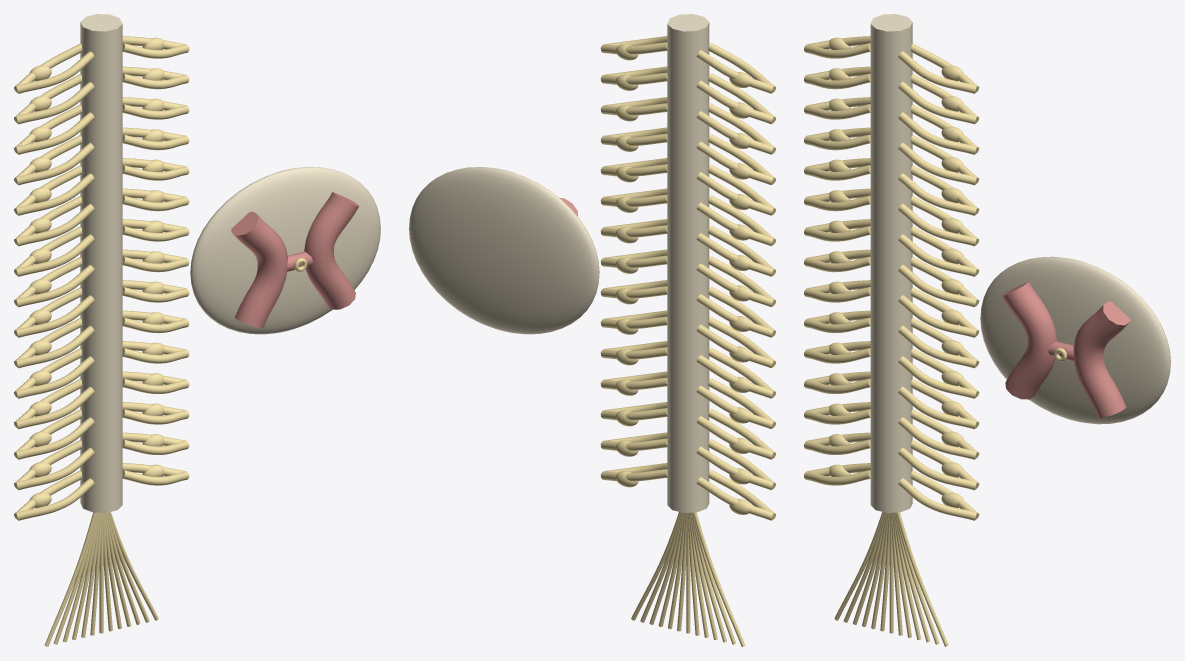
Rendered from spinal-cord.eda09d0e.glb.
The picture shows the model from 3 angles, left to right: view 1: azimuth 30°, elevation 25°; view 2: azimuth 150°, elevation 25°; view 3: azimuth 330°, elevation 25°; orthographic projection.
Visible parts, largest first — view 1: Spinal cord, White matter section, Gray matter horn, Gray matter horn.001, Ventral root.006, Ventral root.010, Ventral root.002, Ventral root, Ventral root.014, Ventral root.018, Ventral root.004, Ventral root.012 (+36 smaller); view 2: White matter section, Spinal cord, Cauda equina, Dorsal root.026, Ventral root.012, Dorsal root.006, Dorsal root.010, Ventral root.004, Ventral root.008, Ventral root.016, Dorsal root.002, Dorsal root.018 (+38 smaller); view 3: Spinal cord, White matter section, Gray matter horn.001, Gray matter horn, Ventral root.023, Ventral root.011, Ventral root.009, Ventral root.027, Ventral root.005, Ventral root.015, Ventral root.019, Ventral root.001 (+39 smaller).
Boxes of the visible parts, x1,y1,x2,y2 form: Spinal cord: [80, 14, 122, 512]; White matter section: [190, 167, 380, 334]; Gray matter horn: [231, 211, 287, 328]; Gray matter horn.001: [304, 192, 359, 309]; Ventral root.006: [16, 143, 94, 185]; Ventral root.010: [16, 204, 94, 246]; Ventral root.002: [16, 82, 94, 124]; Ventral root: [16, 51, 94, 93]; Ventral root.014: [16, 265, 94, 307]; Ventral root.018: [16, 326, 94, 368]; Ventral root.004: [16, 112, 94, 154]; Ventral root.012: [16, 234, 94, 276]; White matter section: [409, 167, 599, 334]; Spinal cord: [667, 14, 709, 512]; Cauda equina: [693, 512, 745, 646]; Dorsal root.026: [696, 446, 773, 489]; Ventral root.012: [708, 225, 775, 276]; Dorsal root.006: [696, 141, 773, 184]; Dorsal root.010: [696, 202, 773, 245]; Ventral root.004: [708, 103, 775, 154]; Ventral root.008: [708, 164, 775, 215]; Ventral root.016: [708, 286, 775, 337]; Dorsal root.002: [696, 80, 773, 123]; Dorsal root.018: [696, 324, 773, 367]; Spinal cord: [870, 14, 912, 512]; White matter section: [980, 256, 1170, 424]; Gray matter horn.001: [1073, 301, 1129, 417]; Gray matter horn: [1002, 281, 1056, 399]; Ventral root.023: [898, 386, 976, 429]; Ventral root.011: [898, 203, 976, 246]; Ventral root.009: [898, 173, 976, 215]; Ventral root.027: [898, 447, 976, 490]; Ventral root.005: [898, 112, 976, 154]; Ventral root.015: [898, 264, 976, 307]; Ventral root.019: [898, 325, 976, 368]; Ventral root.001: [898, 51, 976, 93].
Bounding box in the file's own units: 2.38 × 3.8 × 0.3137.
